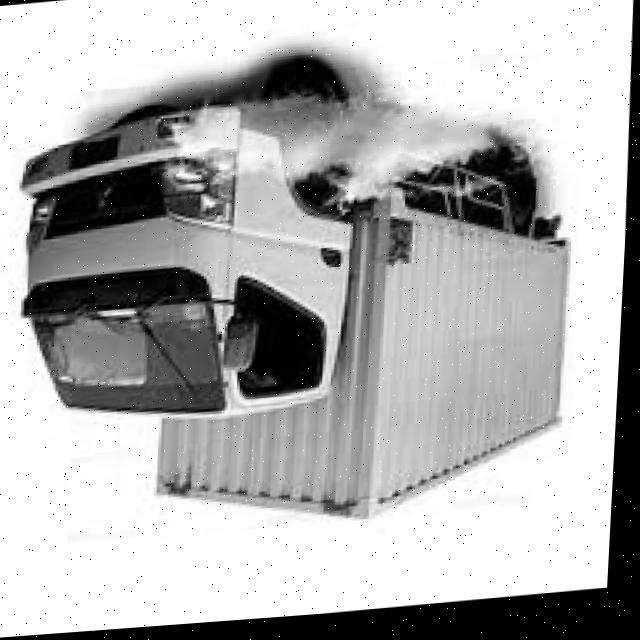truck: (2, 45, 416, 466)
